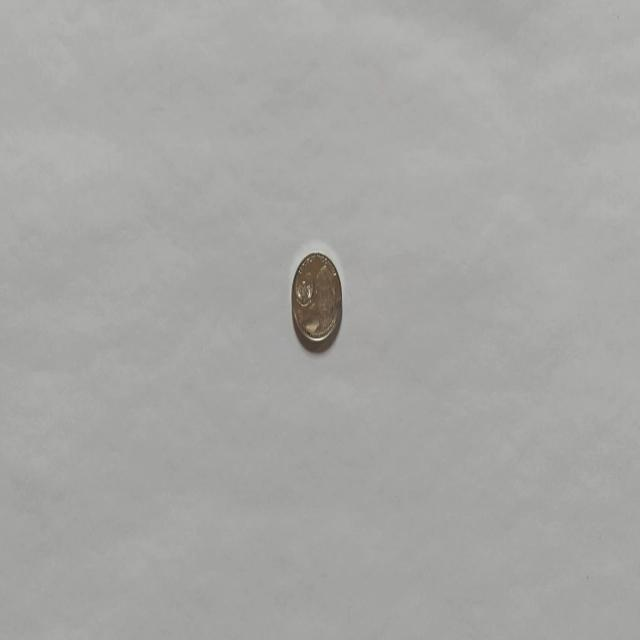dua ratus rupiah: (290, 250, 342, 345)
